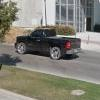Car: (9, 24, 83, 67)
